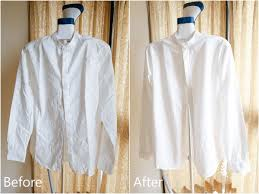S_shirt: (138, 28, 250, 180), (7, 32, 117, 176)
